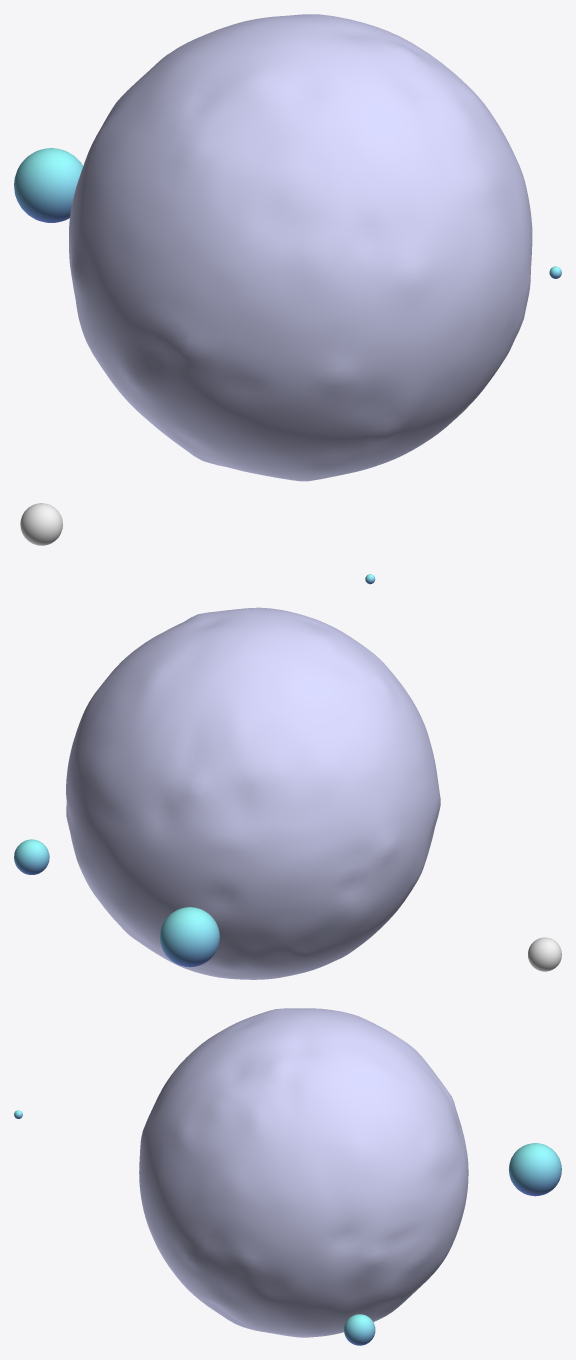
Rendered from world.glb.
3 views of the same model, one above another, from view 1: azimuth 30°, elevation 25°; view 2: azimuth 150°, elevation 25°; view 3: azimuth 270°, elevation 25° (orthographic). The views are drawn at different scales.
Visible parts, largest first — view 1: Box, Sphere 6, Sphere 2; view 2: Box, Sphere 6, Sphere 4, Sphere 2; view 3: Box, Sphere 6, Sphere 4.
Boxes of the visible parts, bbox=[...] form: Box: bbox=[69, 14, 532, 481]; Sphere 6: bbox=[14, 148, 83, 222]; Sphere 2: bbox=[20, 503, 62, 545]; Box: bbox=[66, 607, 440, 979]; Sphere 6: bbox=[160, 907, 219, 967]; Sphere 4: bbox=[14, 839, 49, 874]; Sphere 2: bbox=[528, 937, 561, 971]; Box: bbox=[139, 1008, 468, 1337]; Sphere 6: bbox=[508, 1143, 561, 1196]; Sphere 4: bbox=[344, 1314, 375, 1345].
Size of the model in its own units: 0.6459 by 0.4443 by 0.7388.
4 materials, 2 textured.
